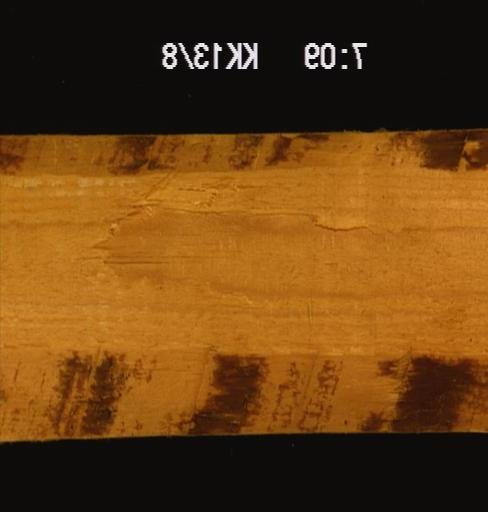split: (94, 249, 179, 269)
wave: (0, 341, 486, 440), (0, 133, 486, 182)
